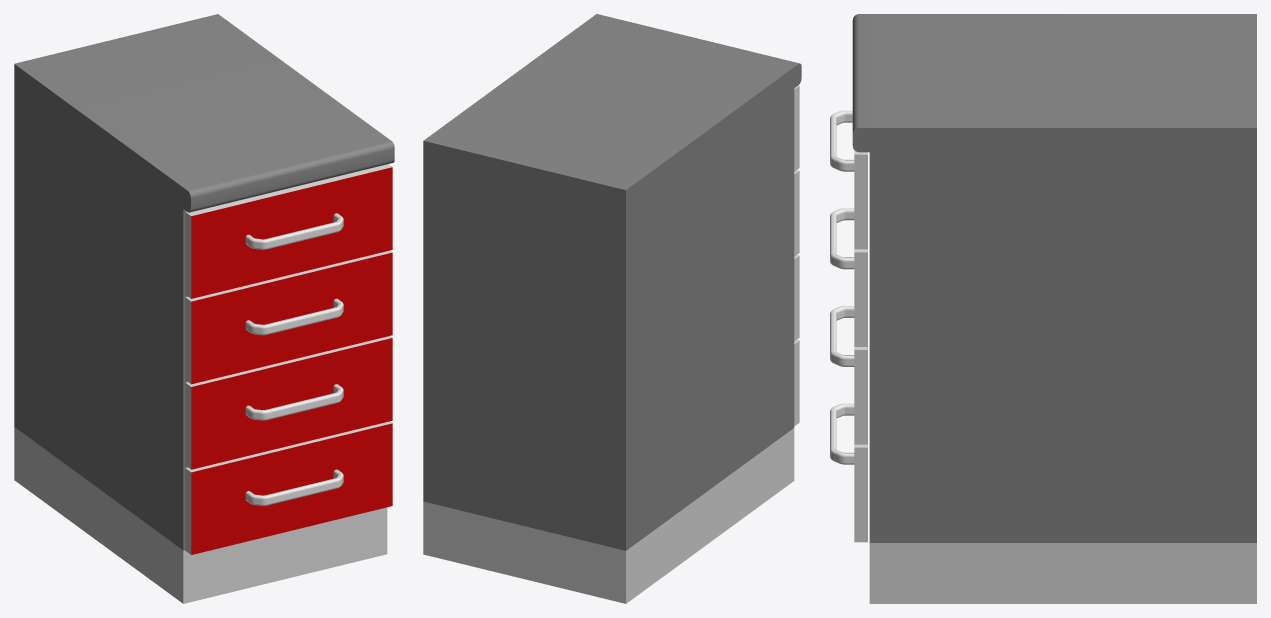
Rendered from sweethome3d-lucapresidente-drawers-55.glb.
3 renders of one model, left to right at view 1: azimuth 30°, elevation 25°; view 2: azimuth 150°, elevation 25°; view 3: azimuth 270°, elevation 25°, orthographic. The views are drawn at different scales.
Parts seen in each view (by area): view 1: Box55_1, Line68_3, Box57_7, Box582_9, Box602_15, Box562_5, Box592_12, Loft20_18, Loft19_17, Loft18_2, Loft21_19, Box60_14 (+7 smaller); view 2: Box55_1, Line68_3, Box57_7; view 3: Box55_1, Line68_3, Box57_7, Box563_6, Box603_16, Box583_10, Box593_13, Loft21_19, Loft19_17, Loft20_18, Loft18_2.
Part boxes in pixels (bbox=[...]): Box55_1: bbox=[14, 85, 187, 550]; Line68_3: bbox=[14, 14, 394, 212]; Box57_7: bbox=[14, 427, 387, 603]; Box582_9: bbox=[191, 338, 392, 469]; Box602_15: bbox=[191, 167, 392, 298]; Box562_5: bbox=[191, 423, 392, 554]; Box592_12: bbox=[191, 252, 392, 384]; Loft20_18: bbox=[245, 384, 343, 420]; Loft19_17: bbox=[245, 298, 343, 335]; Loft18_2: bbox=[245, 213, 343, 249]; Loft21_19: bbox=[245, 469, 343, 505]; Box60_14: bbox=[186, 164, 392, 215]; Box55_1: bbox=[423, 88, 794, 550]; Line68_3: bbox=[423, 14, 801, 211]; Box57_7: bbox=[423, 428, 794, 603]; Box55_1: bbox=[869, 152, 1256, 542]; Line68_3: bbox=[852, 14, 1256, 152]; Box57_7: bbox=[869, 543, 1256, 603]; Box563_6: bbox=[854, 447, 867, 542]; Box603_16: bbox=[854, 154, 867, 249]; Box583_10: bbox=[854, 350, 867, 444]; Box593_13: bbox=[854, 252, 867, 346]; Loft21_19: bbox=[830, 403, 854, 464]; Loft19_17: bbox=[830, 208, 854, 269]; Loft20_18: bbox=[830, 306, 854, 366]; Loft18_2: bbox=[830, 110, 854, 171].
Bounding box in the file's own units: 40 × 78 × 63.38.
